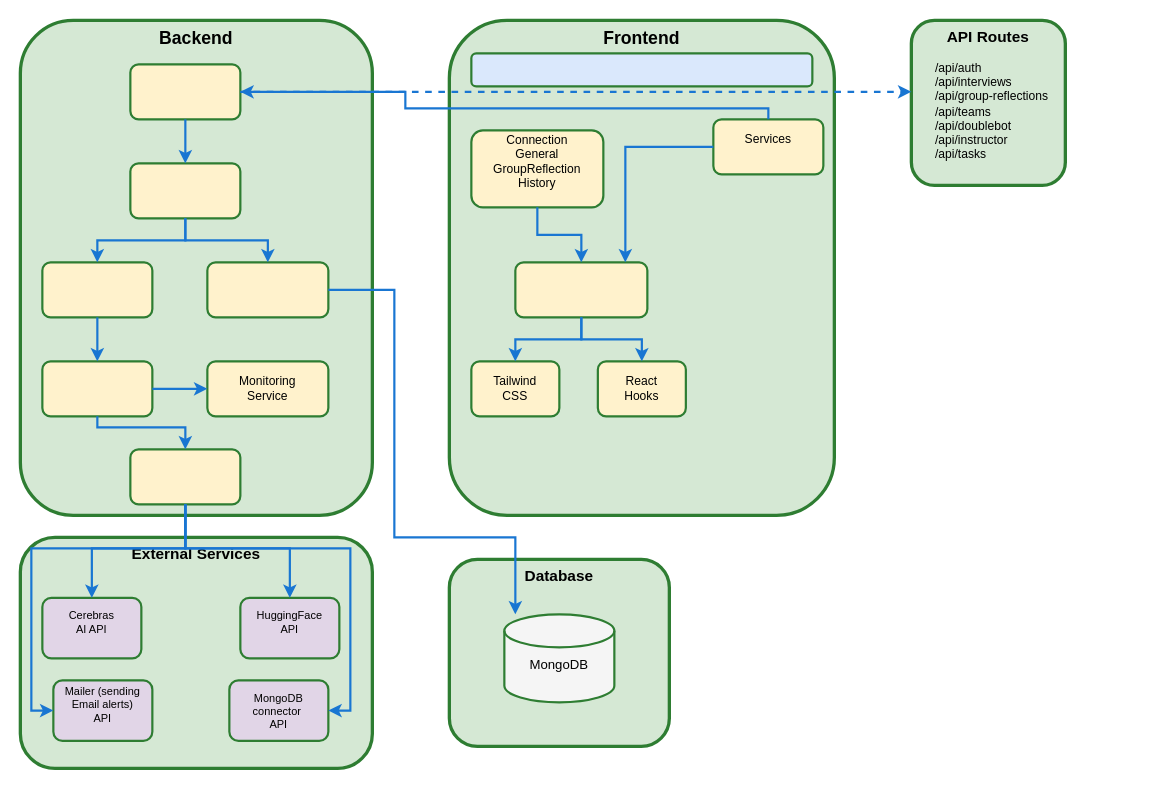
The diagram is 1173 pixels wide and 789 high, and some of its shapes have lost their labels. Here are the shapes that lost their labels. From the top down, the centre of each, then its label:
At point 641,69: "React Framework (Vite)".
At point 185,91: "API Layer".
At point 185,190: "Business Logic".
At point 97,289: "Authentication".
At point 267,289: "Group Reflection Management".
At point 581,289: "React Components".
At point 97,388: "Team Management".
At point 185,476: "DoubleBot System".
